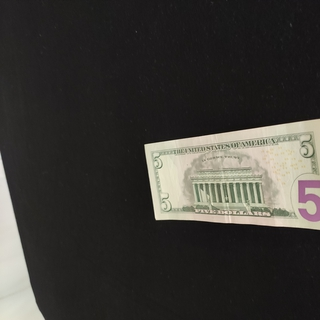5USDBack: (143, 118, 320, 232)
